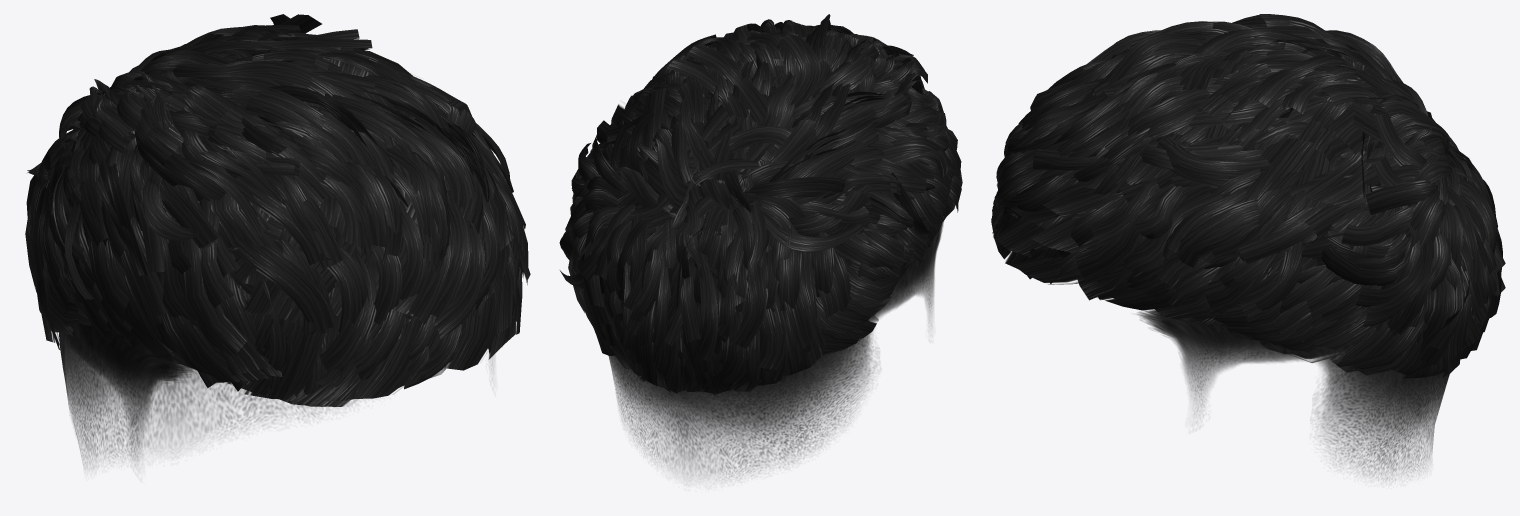
The model's file is diamond_straight_03 TexturedCrop.glb.
3 views of the same model, side by side, from view 1: azimuth 30°, elevation 25°; view 2: azimuth 150°, elevation 25°; view 3: azimuth 270°, elevation 25° (orthographic). The views are drawn at different scales.
Parts seen in each view (by area): view 1: basemesh22.007, Scalp.027; view 2: basemesh22.007, Scalp.027; view 3: basemesh22.007, Scalp.027.
Part boxes in pixels (x1=…): basemesh22.007: x1=25, y1=14, x2=530, y2=406; Scalp.027: x1=58, y1=207, x2=493, y2=468; basemesh22.007: x1=559, y1=14, x2=962, y2=394; Scalp.027: x1=608, y1=101, x2=943, y2=479; basemesh22.007: x1=991, y1=14, x2=1505, y2=378; Scalp.027: x1=1137, y1=74, x2=1449, y2=480.
Size of the model in its own units: 0.1955 by 0.2344 by 0.2502.
Materials: 2 (2 with a texture image).
